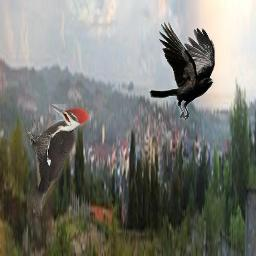Crow: (149, 21, 216, 122)
Woodpecker: (22, 104, 91, 216)
